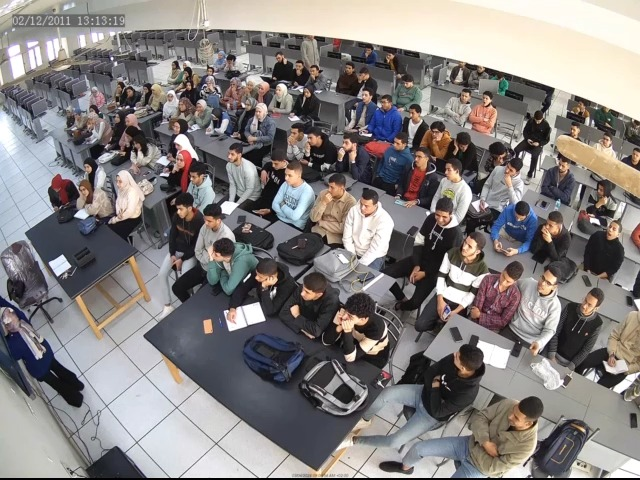non-cheating: (448, 321, 527, 365), (557, 366, 584, 392), (351, 270, 389, 285), (364, 372, 390, 393), (491, 243, 521, 260), (236, 205, 252, 228), (197, 317, 216, 336), (141, 170, 158, 185), (210, 130, 227, 143)
phone: (438, 343, 503, 391), (536, 208, 569, 244)
